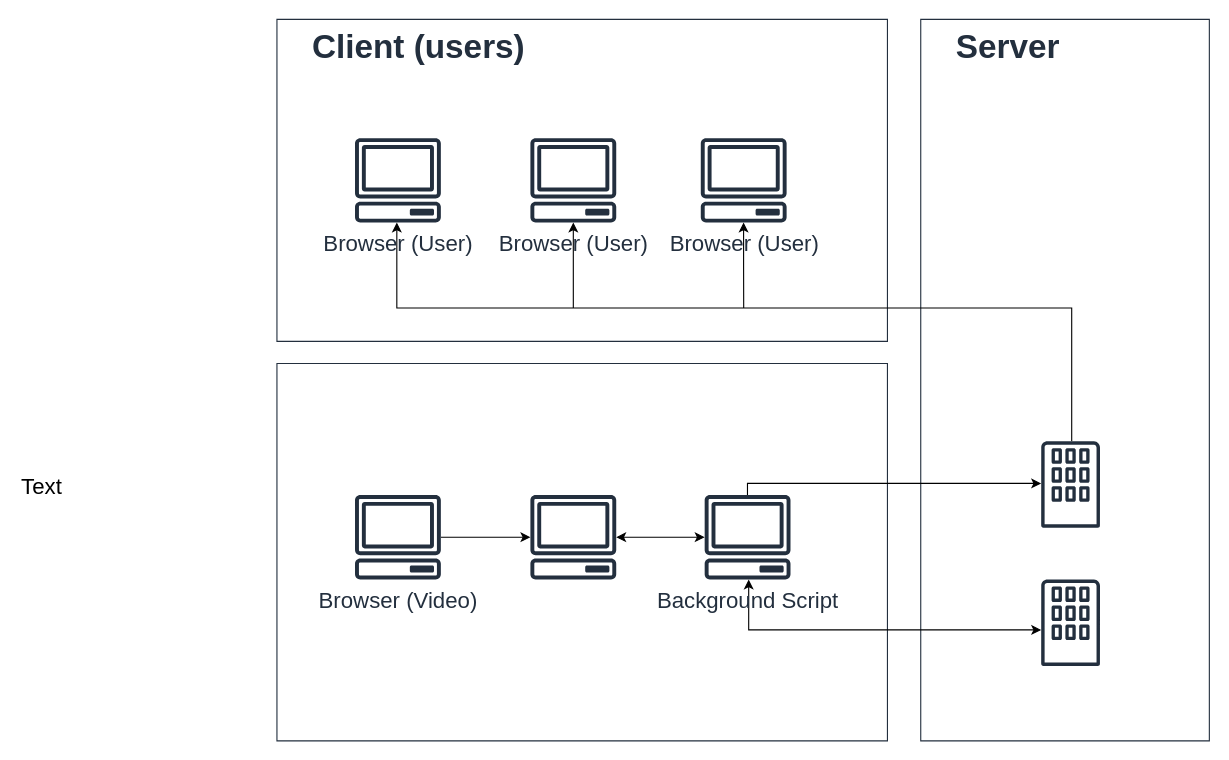
Image size: 1229x760. Some labels were removed from this diagram. The box of each missing label's shape, as (x1, y1, x2, y2) in pixels:
Client (source video): (276, 362, 887, 741)
Content Script: (529, 495, 616, 579)
Express Server (GCP): (1041, 441, 1099, 527)
Youtube Caption Endpoint: (1041, 579, 1099, 665)
